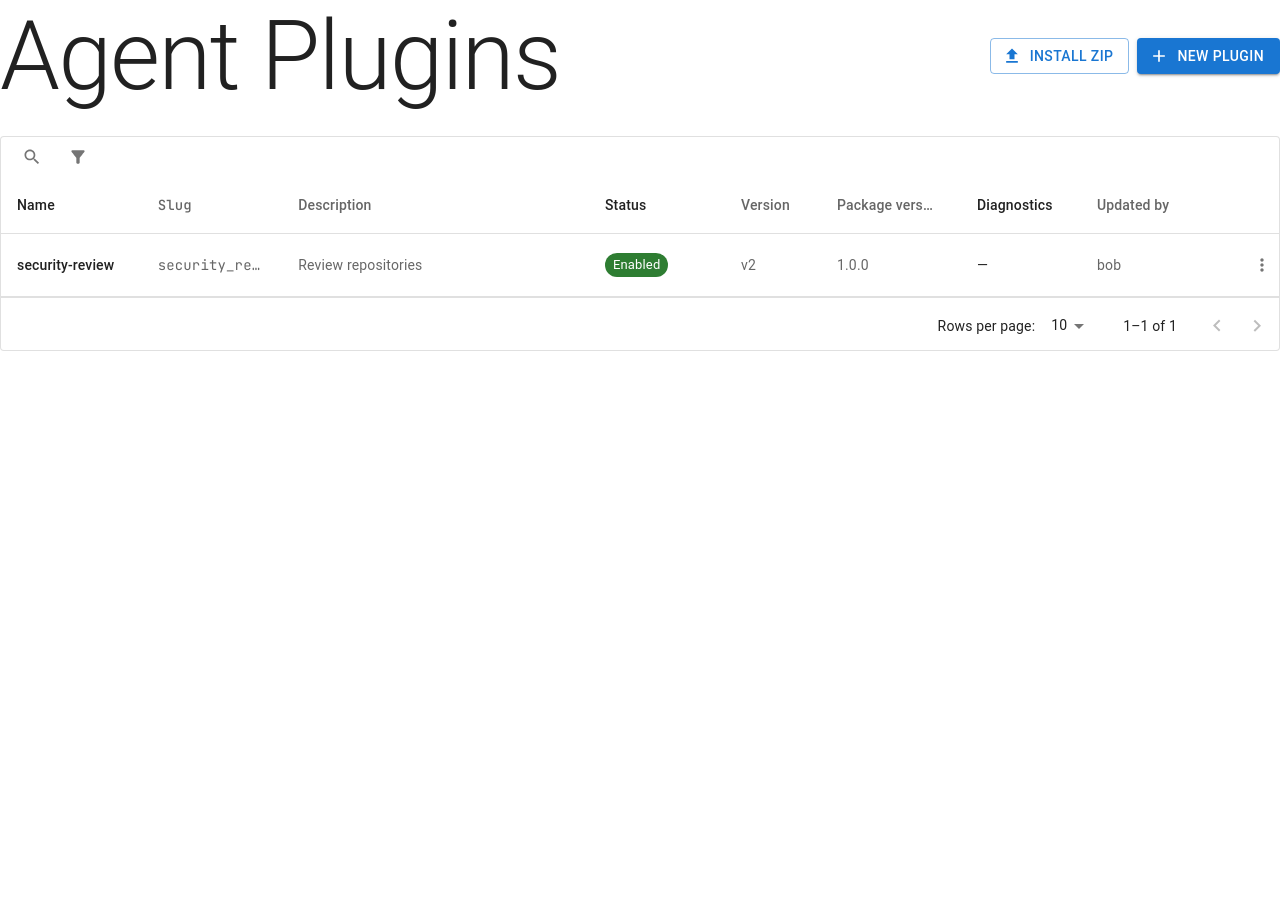
Test: Plugins › uses the standard list table and overflow actions
expect the heading "Agent Plugins" is shown: met, box [0, 0, 560, 112]
expect the column heading "Status" is shown: met, box [589, 177, 725, 234]
Click the text "security-review" at (71, 265), box [17, 255, 126, 275]
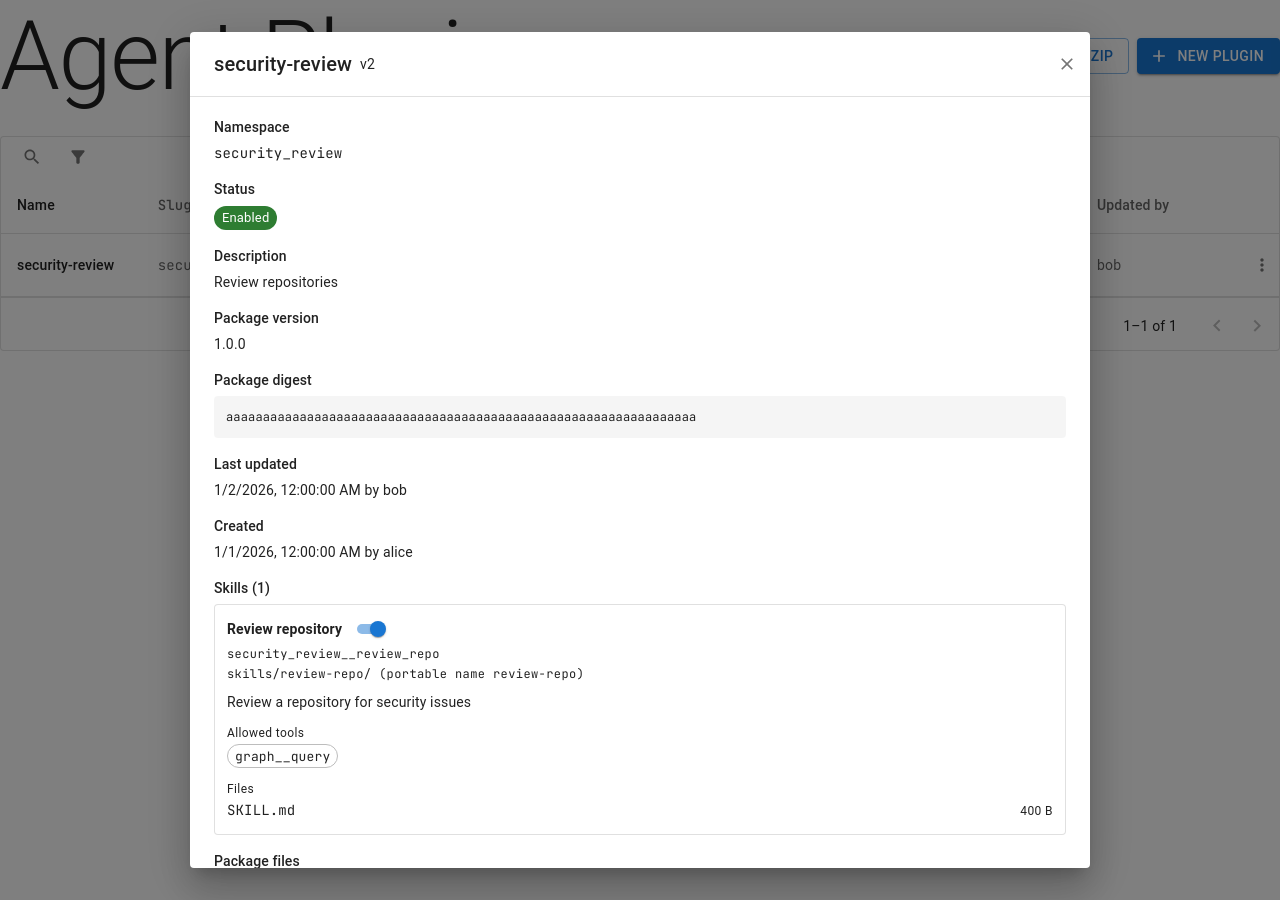
expect the dialog shows "security_review": met, box [214, 144, 342, 162]
expect the dialog shows "security_review__review_repo": met
expect the dialog shows "Review a repository for security issues": met, box [227, 694, 471, 710]
Click the button named "Close" at (1067, 64), box [1052, 49, 1082, 79]
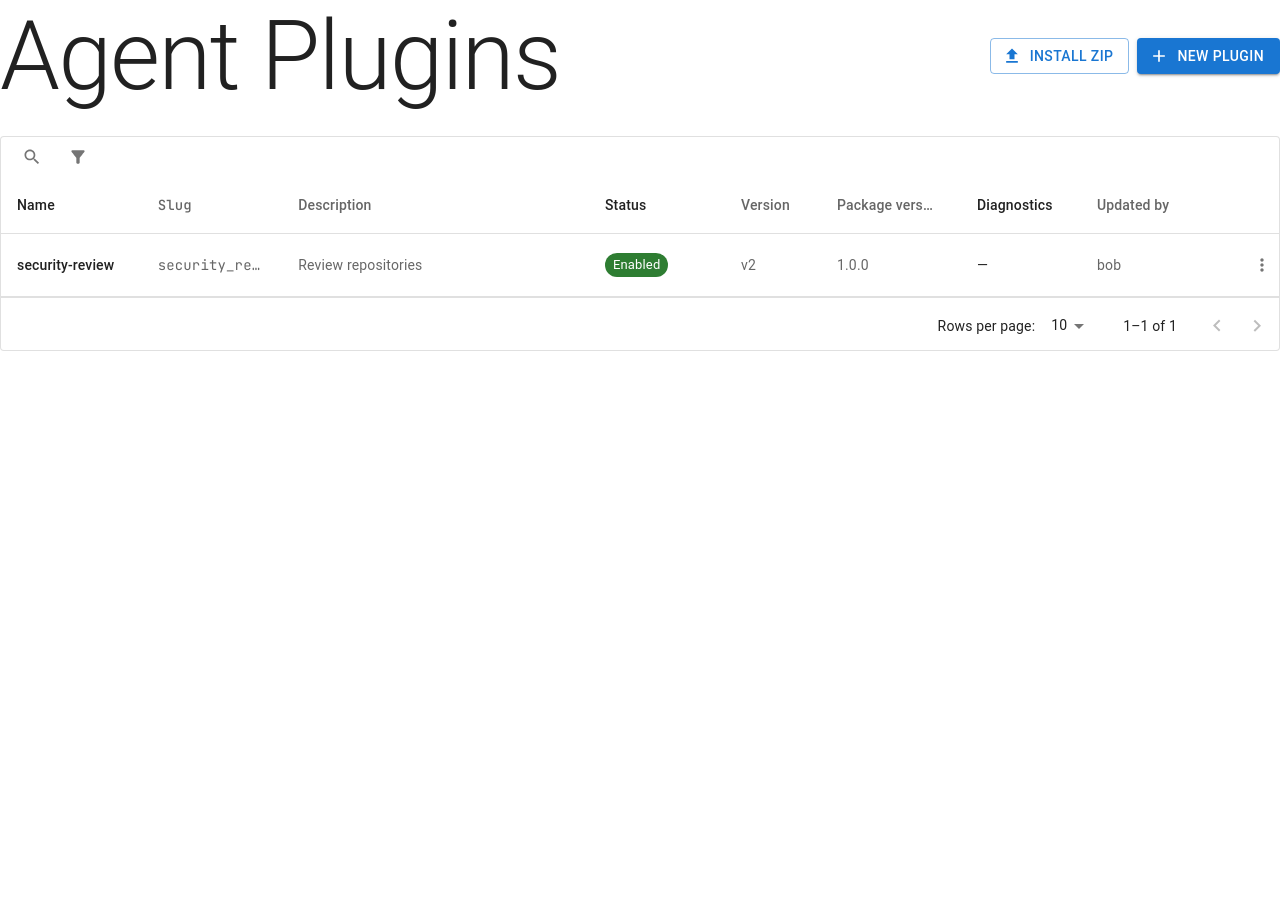
expect the text "security_review" is shown: met, box [158, 255, 266, 275]
expect the button "New plugin" is shown: met, box [1137, 38, 1279, 74]
Click the button named "More actions" at (1262, 265), box [1247, 250, 1277, 280]
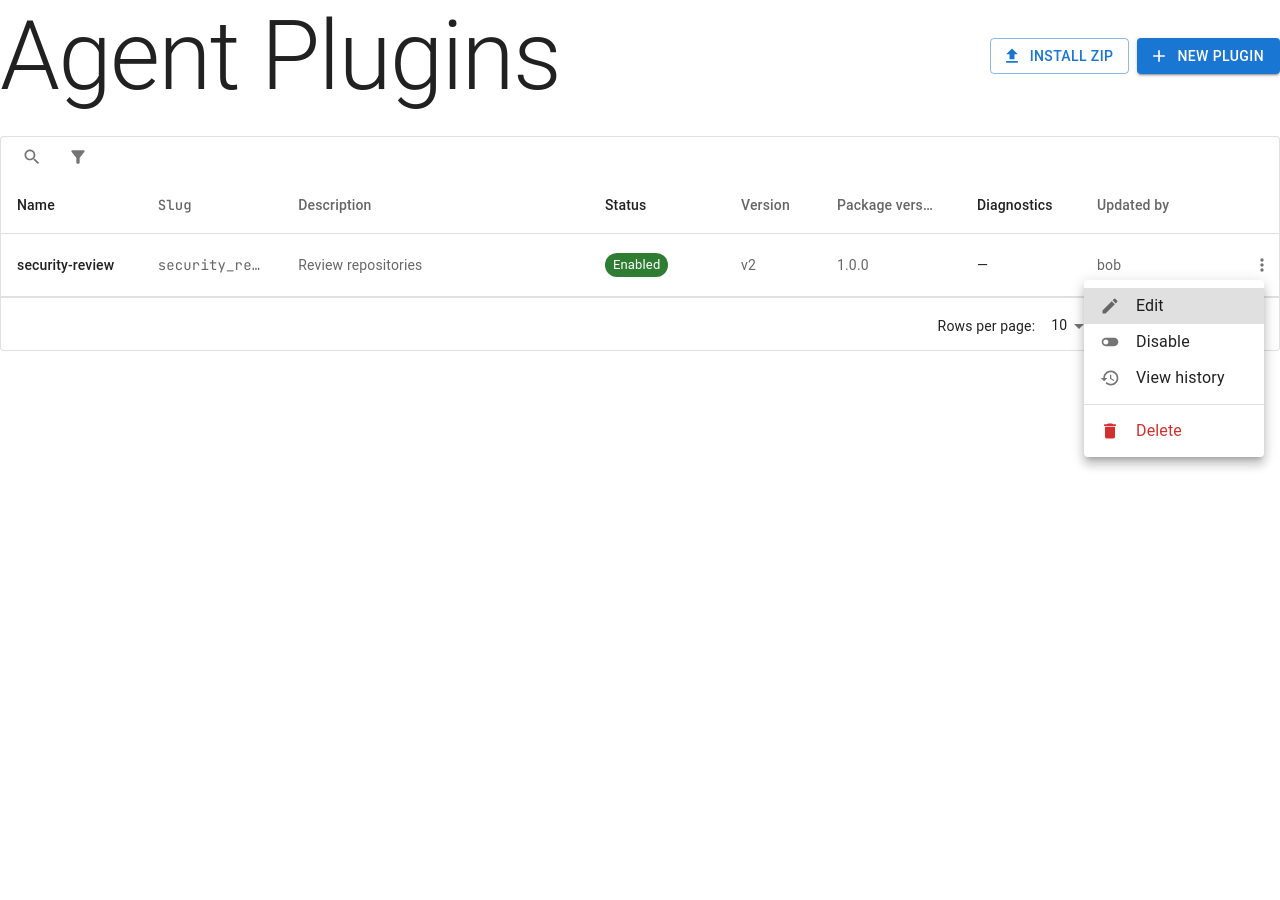
expect the menu item "Edit" is shown: met, box [1084, 288, 1264, 324]
expect the menu item "Disable" is shown: met, box [1100, 332, 1190, 352]
expect the menu item "View history" is shown: met, box [1100, 368, 1225, 388]
